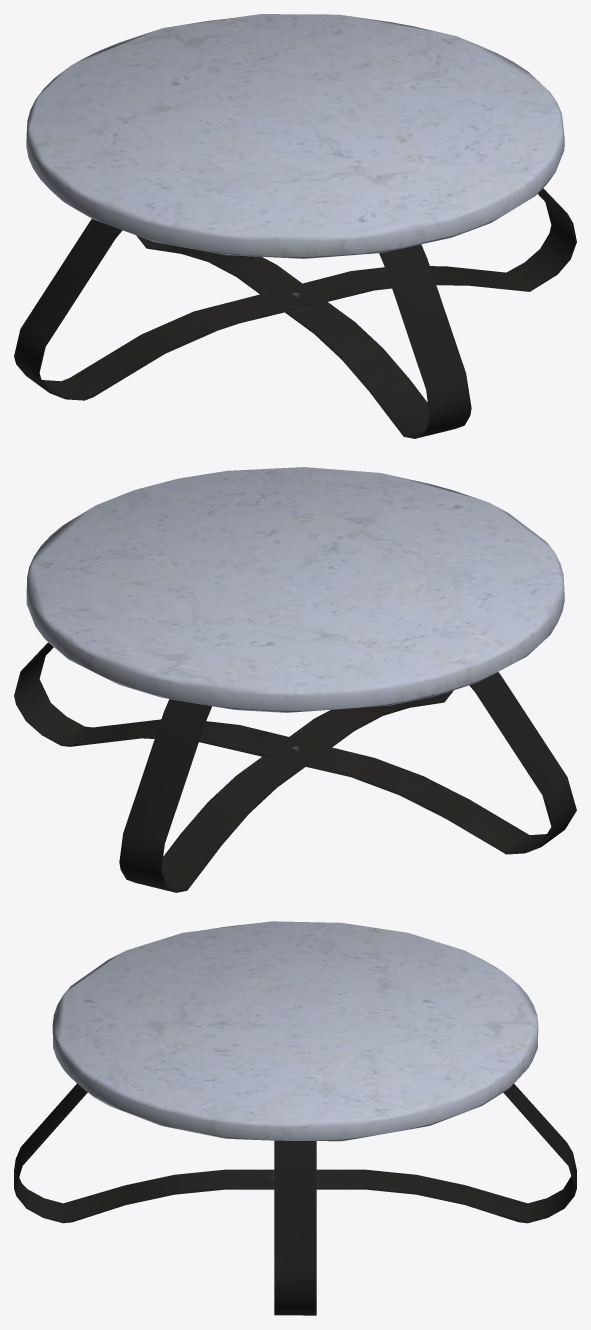
Rendered from coffee_table_round_01.glb.
3 views of the same model, one above another, from view 1: azimuth 30°, elevation 25°; view 2: azimuth 150°, elevation 25°; view 3: azimuth 270°, elevation 25° (orthographic). The views are drawn at different scales.
Visible parts, largest first — view 1: coffee_table_round_01; view 2: coffee_table_round_01; view 3: coffee_table_round_01.
Part boxes in pixels (box(x1,y1,x2,y2)): coffee_table_round_01: box(14, 14, 576, 438); coffee_table_round_01: box(14, 467, 576, 892); coffee_table_round_01: box(14, 921, 576, 1315).
Bounding box in the file's own units: 1.3 × 0.4899 × 1.3.
1 material, 1 textured.
